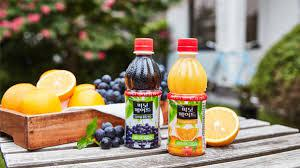minutemaid_org_orange: (167, 32, 209, 158)
